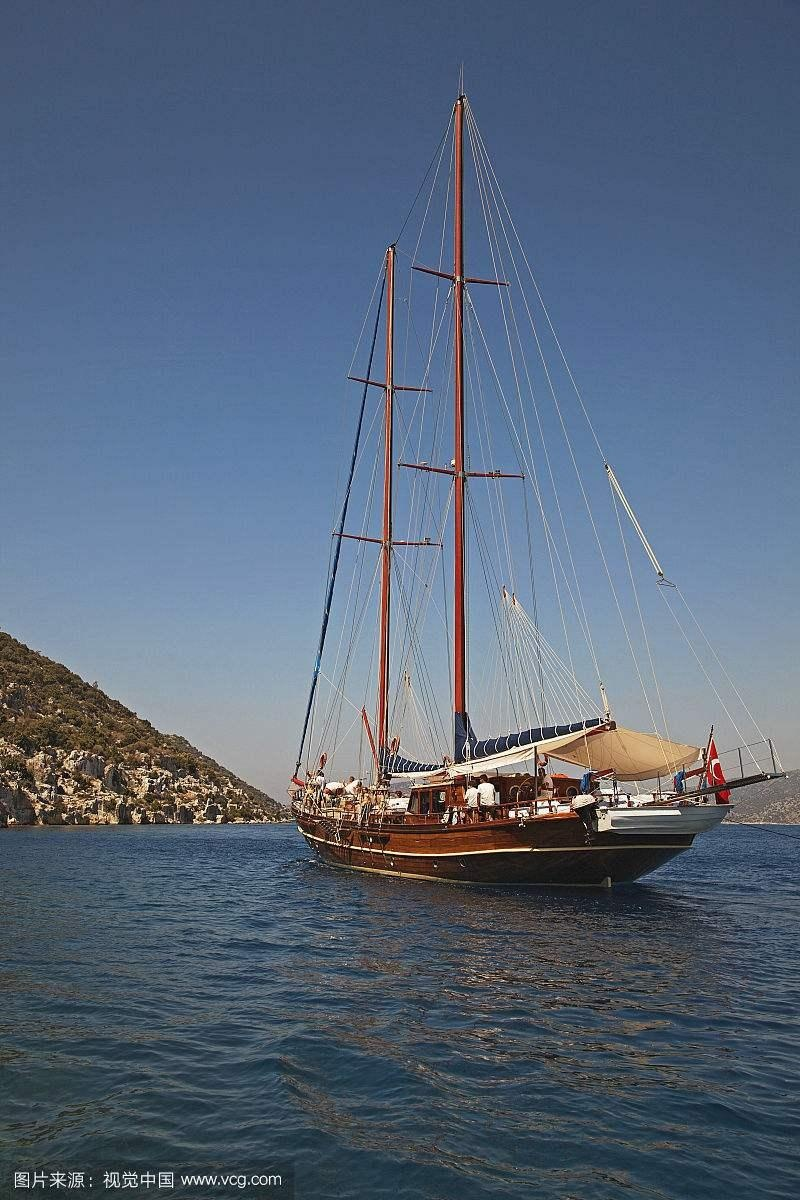fanchuan: (278, 49, 786, 896)
